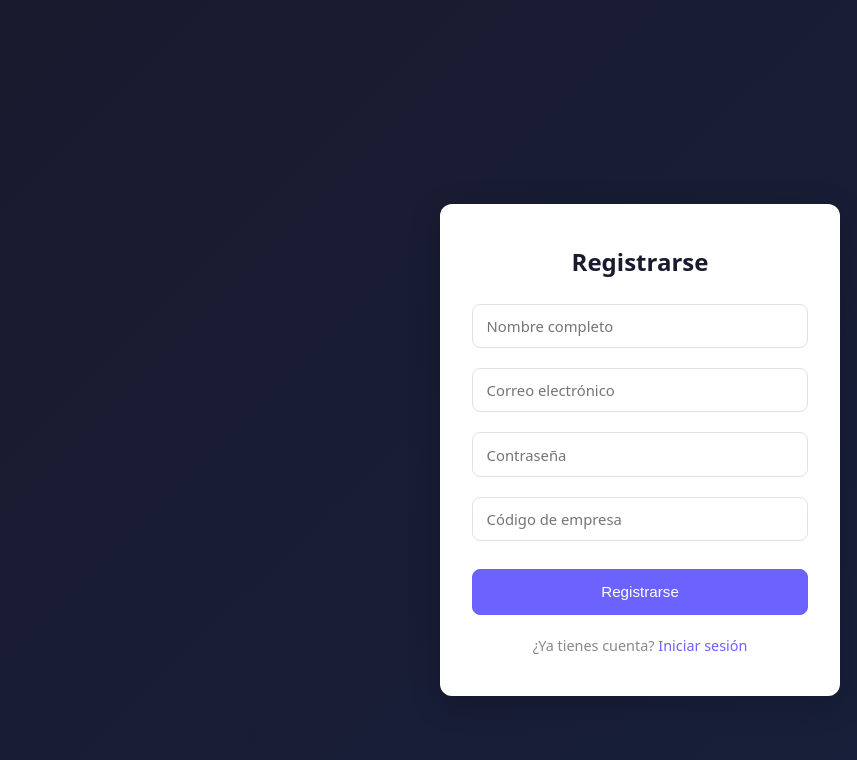
Test: Register › shows error for weak password (no uppercase)
Type "Juan" into the field with placeholder "Nombre completo" at x=640, y=326, box top-left (472, 304), bottom-right (808, 348)
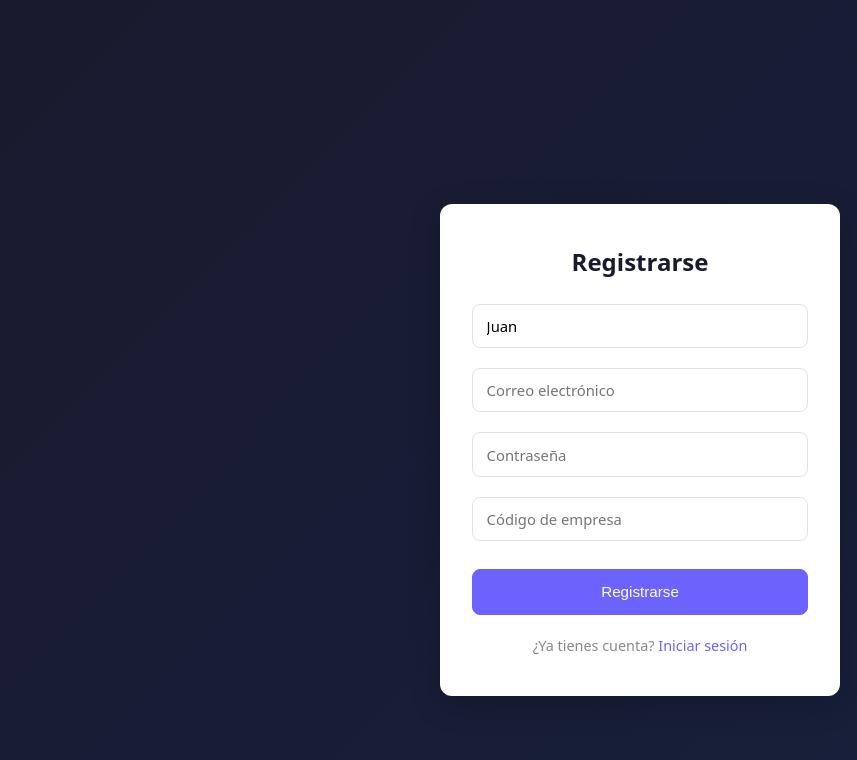
Type "a@a.com" into the field with placeholder "Correo electrónico" at x=640, y=390, box top-left (472, 368), bottom-right (808, 412)
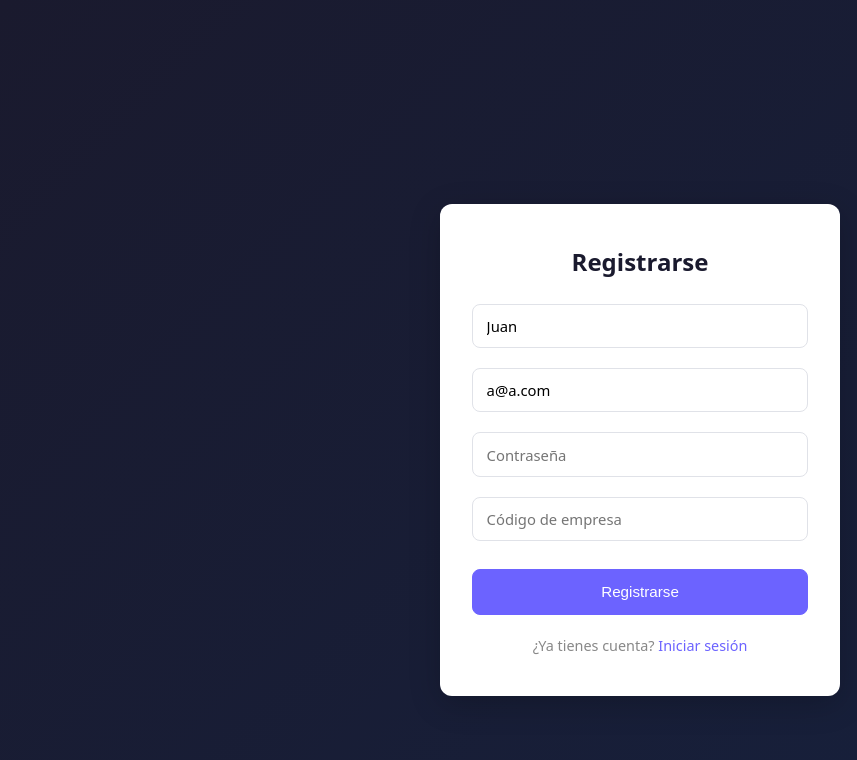
Type "abcdefgh" into the password field with placeholder "Contraseña" at x=640, y=455, box top-left (472, 432), bottom-right (808, 477)
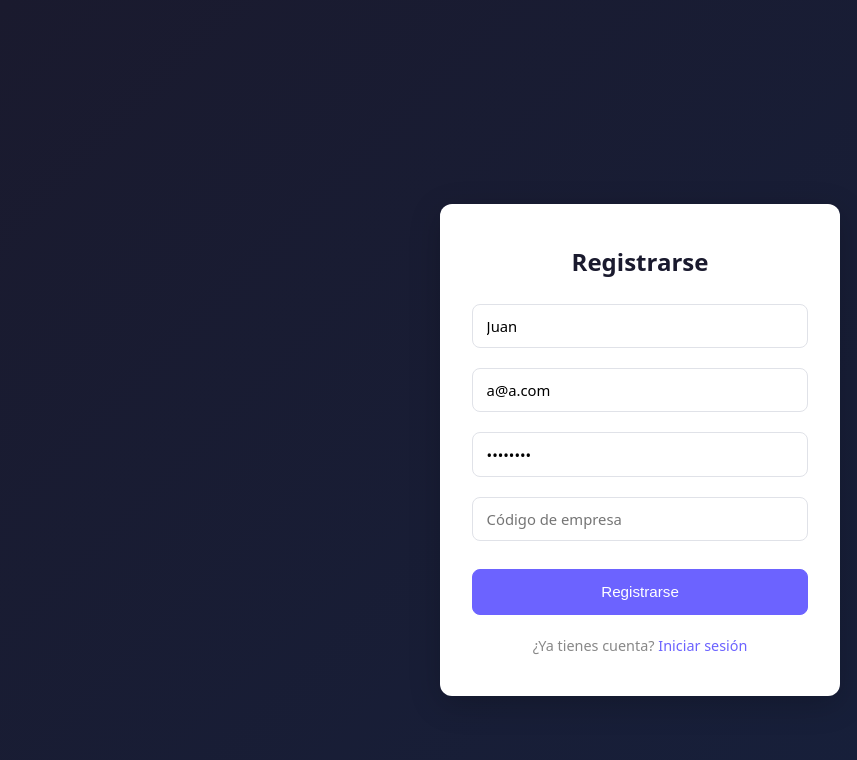
Type "1" into the number field with placeholder "Código de empresa" at x=640, y=519, box top-left (472, 497), bottom-right (808, 541)
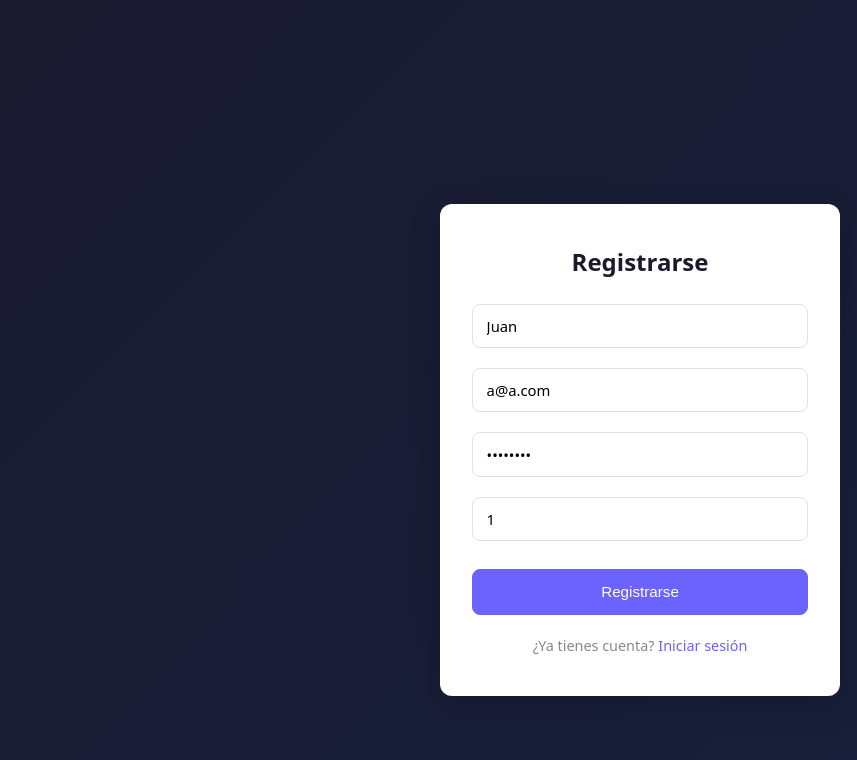
Click the button "Registrarse" at x=640, y=592, box top-left (472, 569), bottom-right (808, 615)
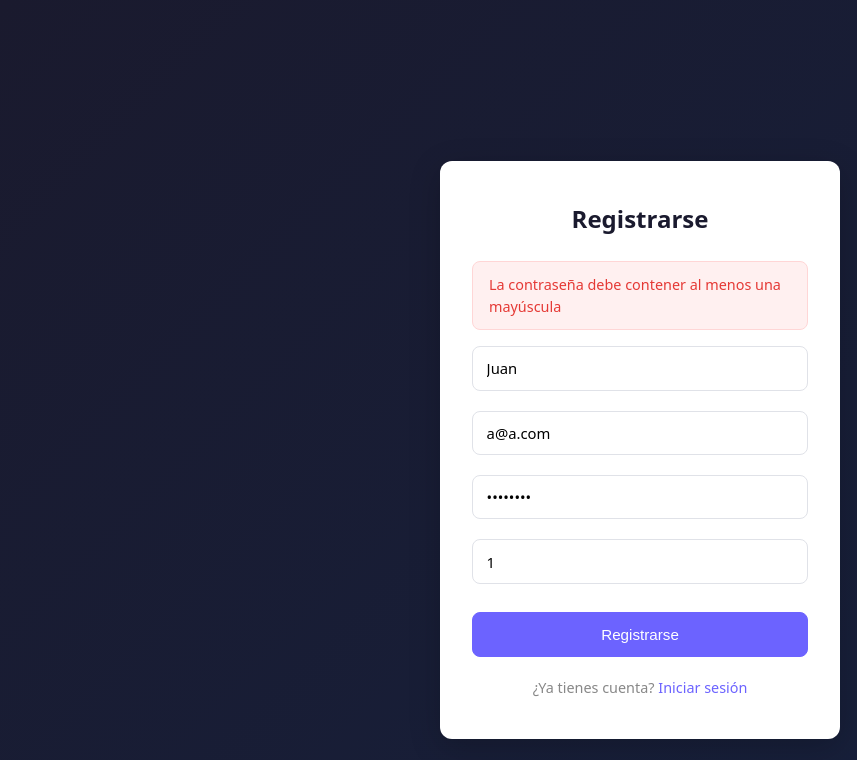
Check: the text "La contraseña debe contener al menos una mayúscula" is shown, box top-left (472, 261), bottom-right (808, 330)
